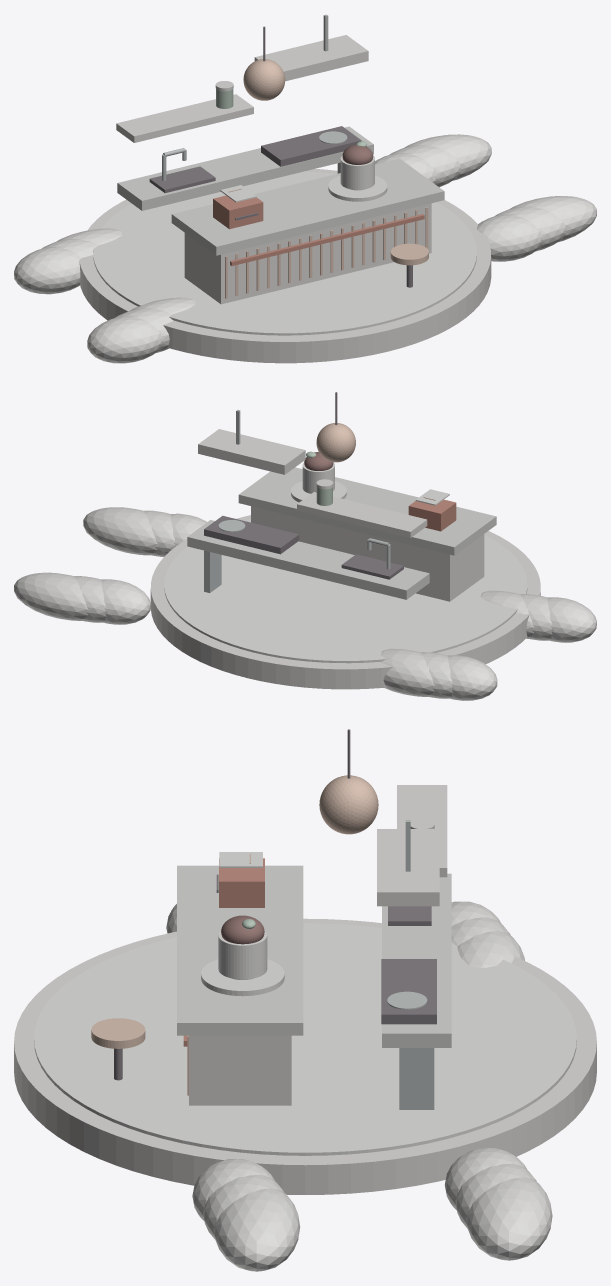
File: slpraxo_cuisine_premium.glb
3 views of the same model, one above another, from view 1: azimuth 30°, elevation 25°; view 2: azimuth 150°, elevation 25°; view 3: azimuth 270°, elevation 25° (orthographic). The views are drawn at different scales.
Visible parts, largest first — view 1: platform-inset, floating-platform, island-top, island-torso, back-counter, shelf, cloud-0-0, hood, cloud-1-0, cloud-2-0, stove-base, cloud-3-2 (+16 smaller); view 2: platform-inset, floating-platform, island-torso, island-top, back-counter, hood, cloud-3-2, cloud-2-2, shelf, cloud-1-2, stove-base, cloud-0-0 (+14 smaller); view 3: platform-inset, floating-platform, island-top, island-torso, back-counter, cloud-2-2, cloud-3-2, hood, stove-base, globe-lamp, shelf, back-support (+13 smaller).
Part boxes in pixels (<box>): platform-inset: <box>93,171,476,335</box>; floating-platform: <box>79,169,491,363</box>; island-top: <box>171,158,444,255</box>; island-torso: <box>184,203,431,304</box>; back-counter: <box>117,126,373,210</box>; shelf: <box>116,94,253,142</box>; cloud-0-0: <box>87,316,162,363</box>; hood: <box>254,35,368,81</box>; cloud-1-0: <box>14,247,81,294</box>; cloud-2-0: <box>477,214,542,261</box>; stove-base: <box>261,126,361,166</box>; cloud-3-2: <box>404,134,491,180</box>; platform-inset: <box>164,519,527,663</box>; floating-platform: <box>150,515,540,689</box>; island-torso: <box>251,506,484,601</box>; island-top: <box>238,467,496,555</box>; back-counter: <box>187,520,429,599</box>; hood: <box>198,429,305,474</box>; cloud-3-2: <box>14,572,88,620</box>; cloud-2-2: <box>83,507,157,555</box>; shelf: <box>297,492,427,538</box>; cloud-1-2: <box>380,648,434,696</box>; stove-base: <box>204,515,299,554</box>; cloud-0-0: <box>547,597,596,642</box>; platform-inset: <box>34,923,576,1155</box>; floating-platform: <box>14,918,596,1194</box>; island-top: <box>177,865,303,1035</box>; island-torso: <box>189,1035,291,1105</box>; back-counter: <box>382,873,451,1047</box>; cloud-2-2: <box>214,1188,300,1271</box>; cloud-3-2: <box>466,1177,552,1260</box>; hood: <box>377,829,439,906</box>; stove-base: <box>381,959,436,1024</box>; globe-lamp: <box>319,775,378,834</box>; shelf: <box>397,785,447,877</box>; back-support: <box>399,1048,434,1109</box>.
Size of the model in its own units: 9.8 by 4.49 by 6.7.
